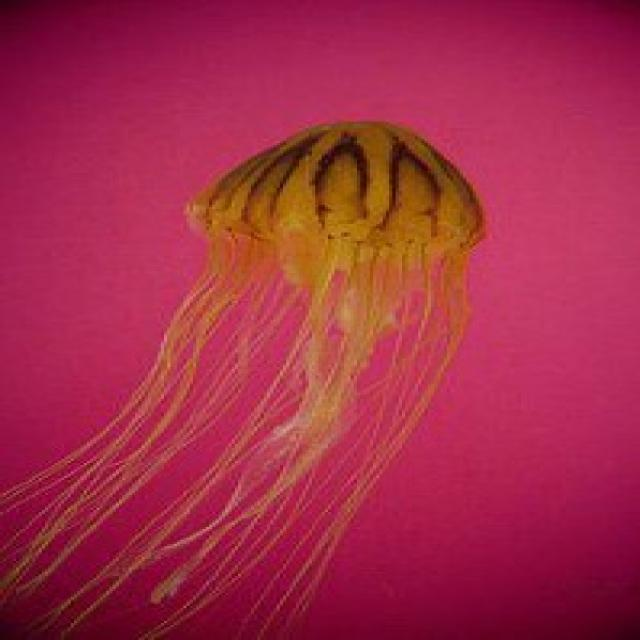Jellyfish: (117, 110, 510, 538)
